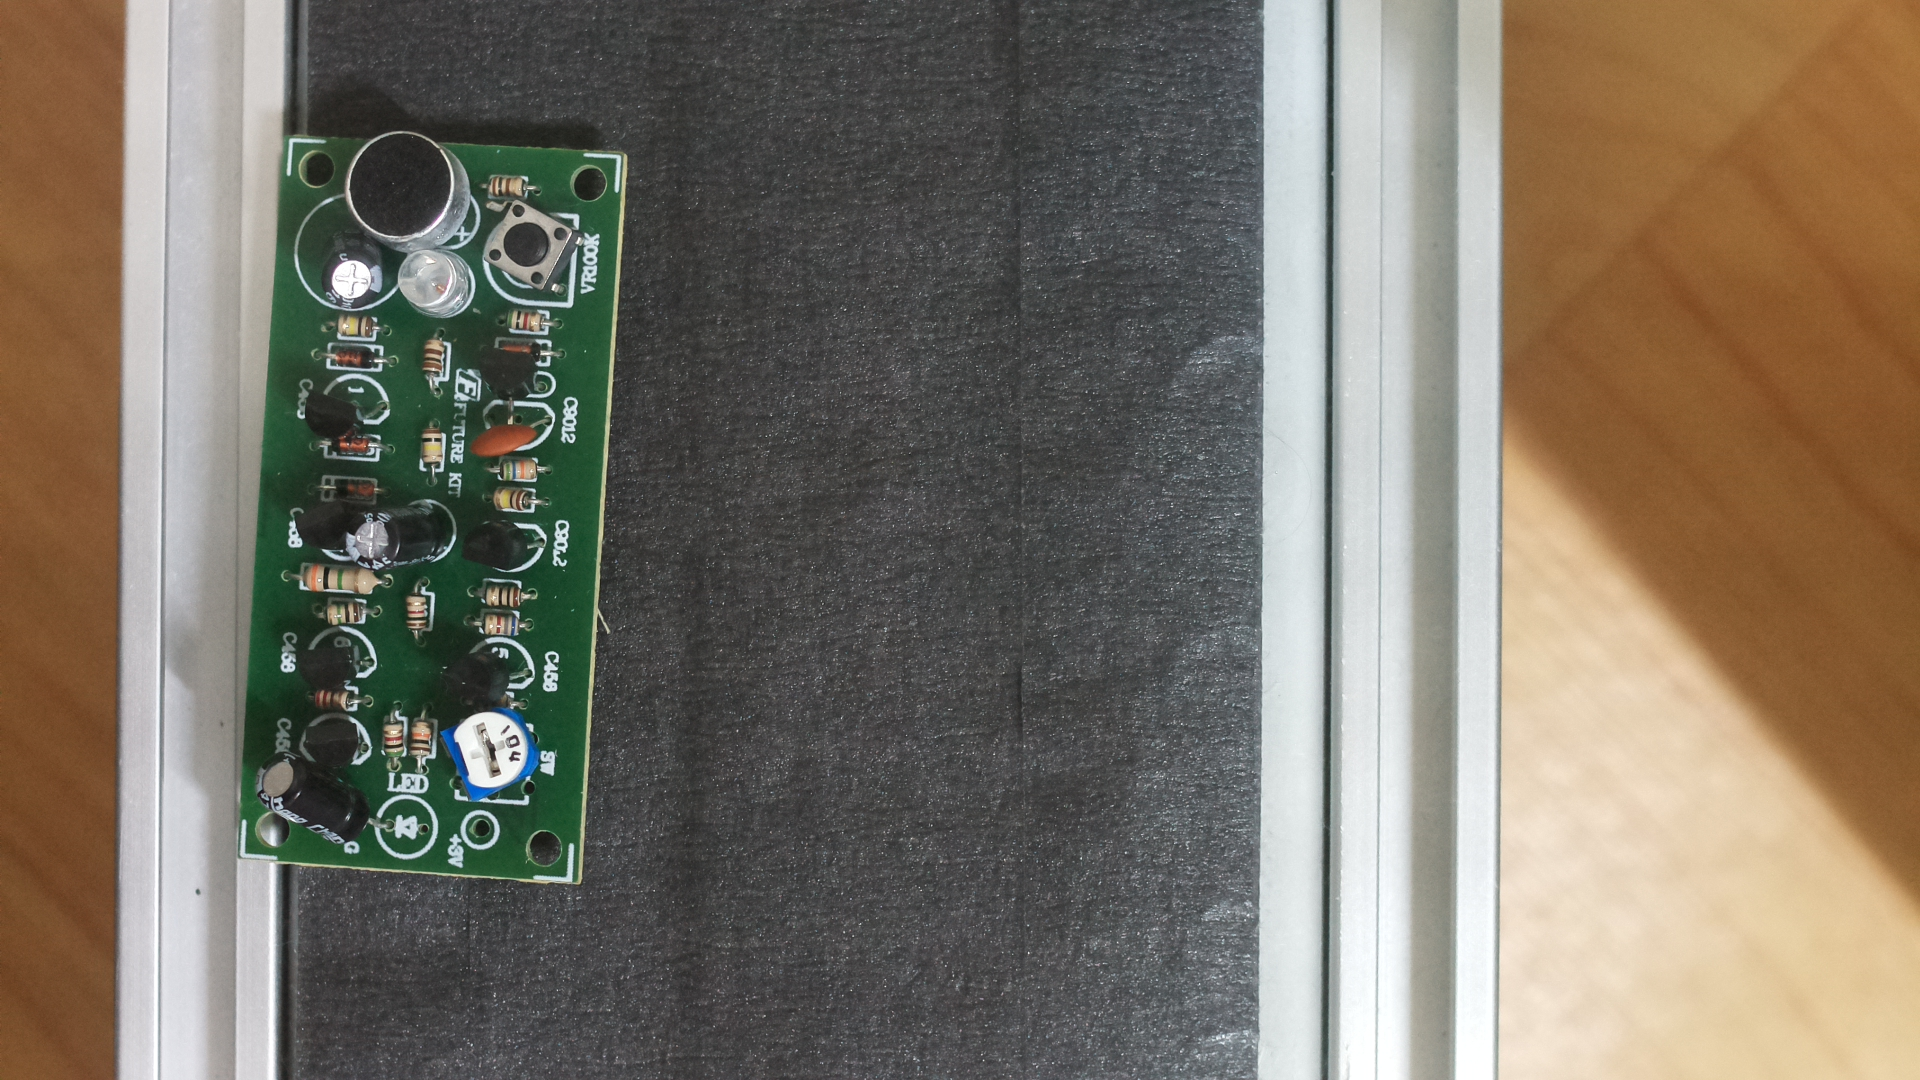A_Misordered: (233, 105, 640, 906)
